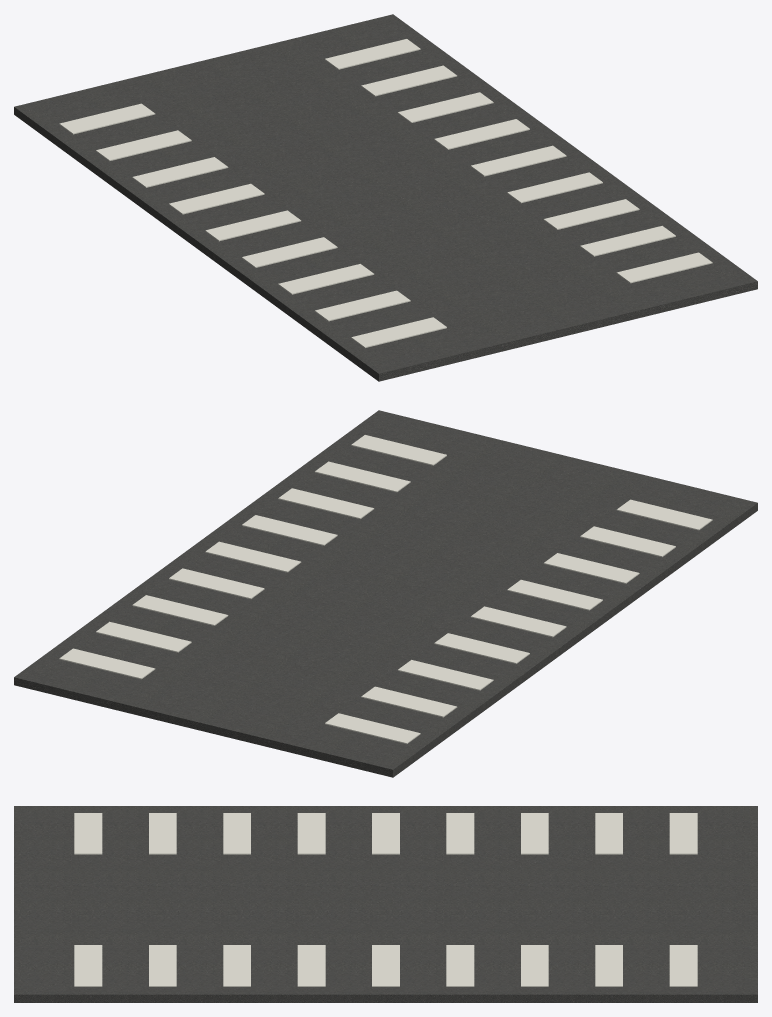
File: intersection.glb
The picture shows the model from 3 angles, top to bottom: view 1: azimuth 30°, elevation 25°; view 2: azimuth 150°, elevation 25°; view 3: azimuth 270°, elevation 25°; orthographic projection.
Visible parts, largest first — view 1: intersection; view 2: intersection; view 3: intersection.
Boxes of the visible parts, bbox=[...] form: intersection: bbox=[14, 14, 757, 381]; intersection: bbox=[14, 410, 757, 777]; intersection: bbox=[14, 806, 757, 1002].
Bounding box in the file's own units: 12 × 0.271 × 20.
